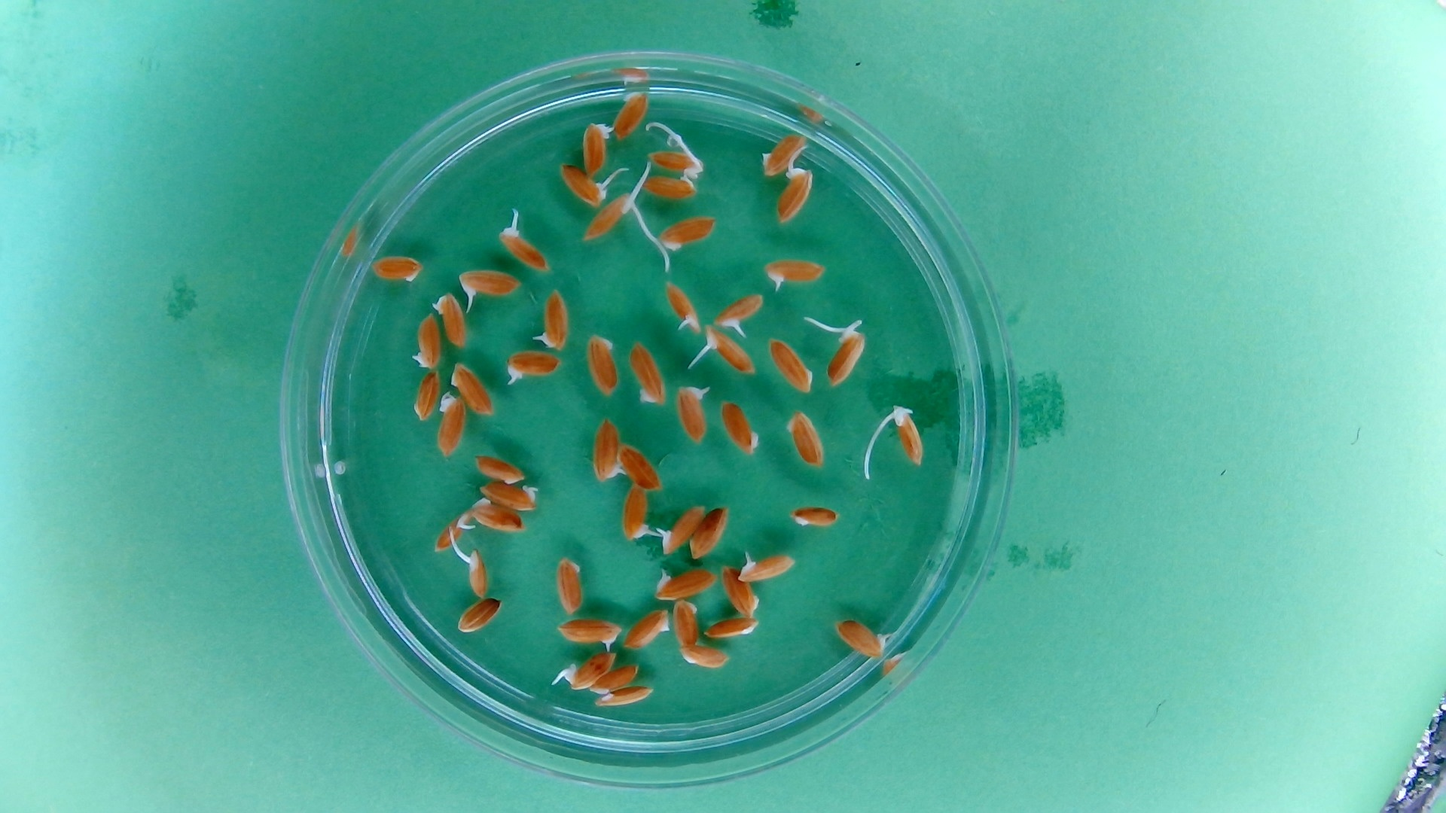no: (448, 359, 495, 419), (768, 336, 815, 394), (627, 338, 666, 407), (784, 408, 825, 469), (615, 440, 664, 491), (757, 130, 809, 178), (584, 331, 621, 398), (718, 563, 762, 619), (689, 503, 731, 561), (465, 497, 529, 535), (719, 399, 761, 456), (589, 415, 623, 484), (611, 87, 651, 143), (432, 289, 468, 351), (656, 213, 717, 249), (435, 390, 467, 458), (623, 607, 673, 650), (409, 310, 444, 370), (479, 479, 540, 512), (581, 118, 614, 177), (554, 554, 585, 615), (368, 252, 425, 285), (472, 452, 527, 486), (455, 596, 502, 633), (593, 683, 654, 710), (410, 370, 441, 422), (701, 614, 760, 641), (591, 662, 641, 693), (642, 173, 699, 200), (673, 598, 700, 652), (678, 641, 730, 669), (432, 517, 471, 553), (787, 504, 840, 529)
yes: (702, 324, 758, 376), (497, 223, 551, 273), (582, 192, 635, 242), (825, 324, 866, 388), (658, 502, 706, 556), (832, 617, 892, 659), (557, 162, 609, 209), (775, 166, 815, 226), (651, 566, 718, 601), (535, 288, 571, 352), (457, 268, 521, 303), (890, 404, 926, 466), (676, 382, 712, 444), (565, 650, 617, 692), (620, 483, 654, 544), (557, 618, 621, 650), (503, 350, 563, 384), (763, 257, 825, 288), (664, 279, 700, 332), (714, 292, 764, 330), (646, 146, 705, 178), (737, 550, 796, 582), (461, 547, 489, 599)
